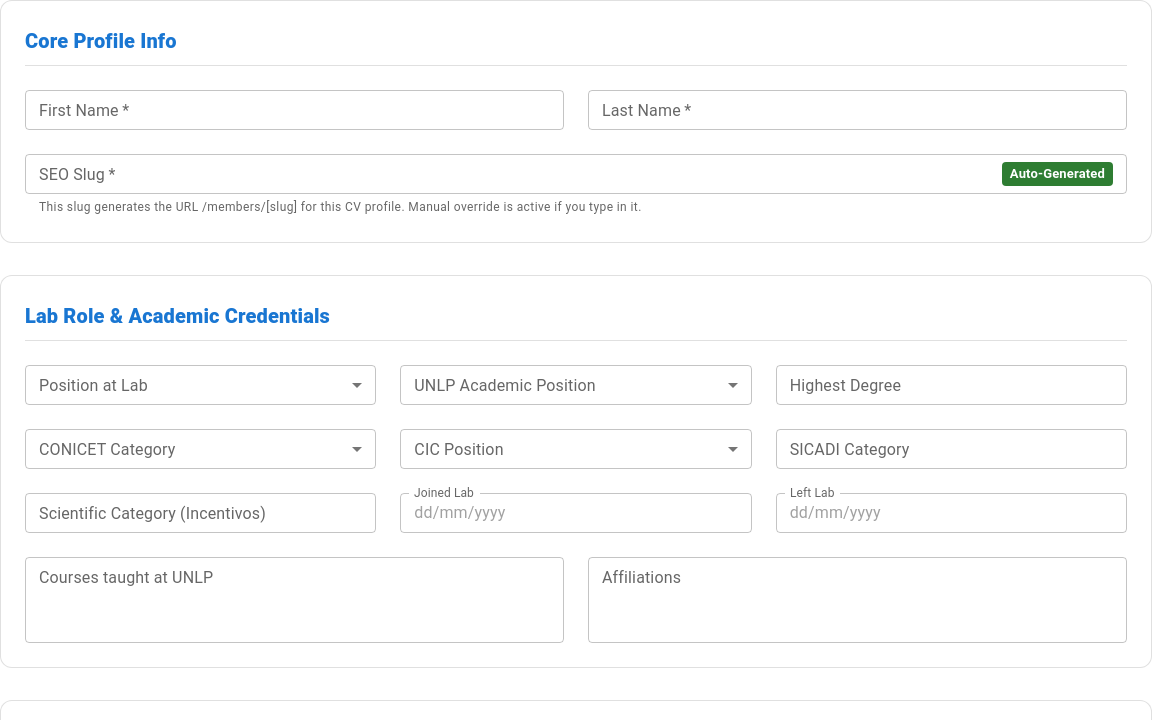
Scenario: MemberForm Component › stops auto-generating slug if user manually overrides it, and resets when Reset Auto is clicked
The width and height of the screenshot is (1152, 720).
In the field labelled "First Name *": coordinates (294, 110) [25,90,564,130], type "Juan"
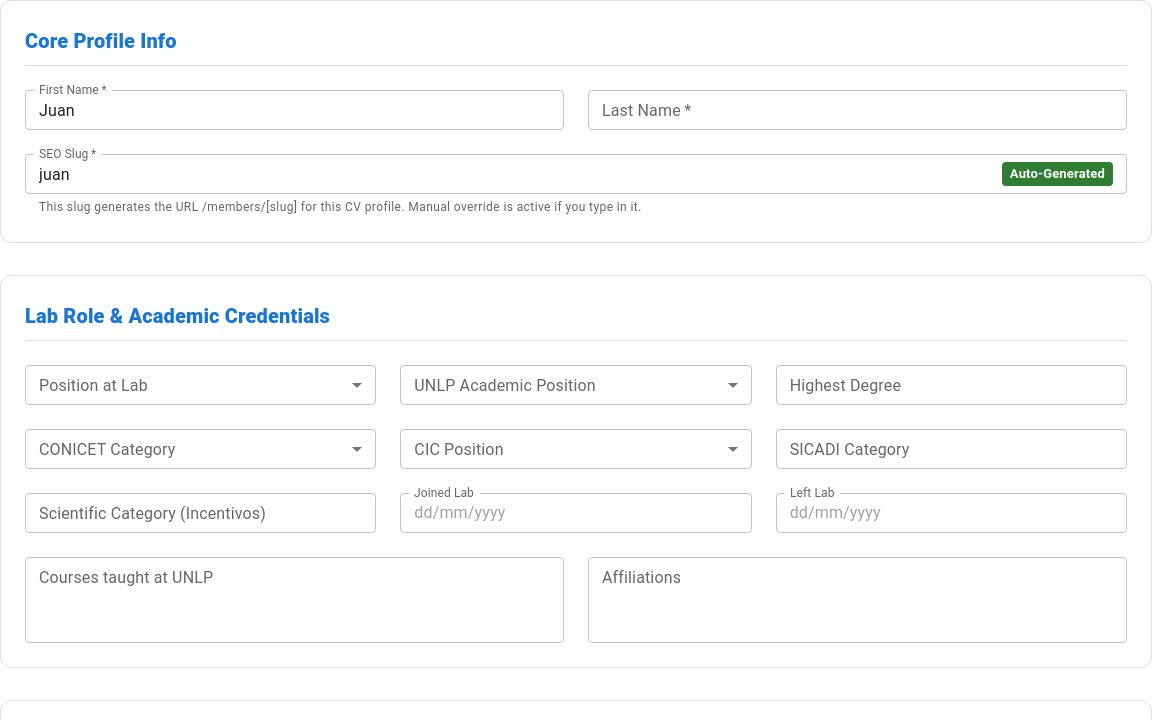
In the field labelled "Last Name *": coordinates (858, 110) [588,90,1127,130], type "Perez"
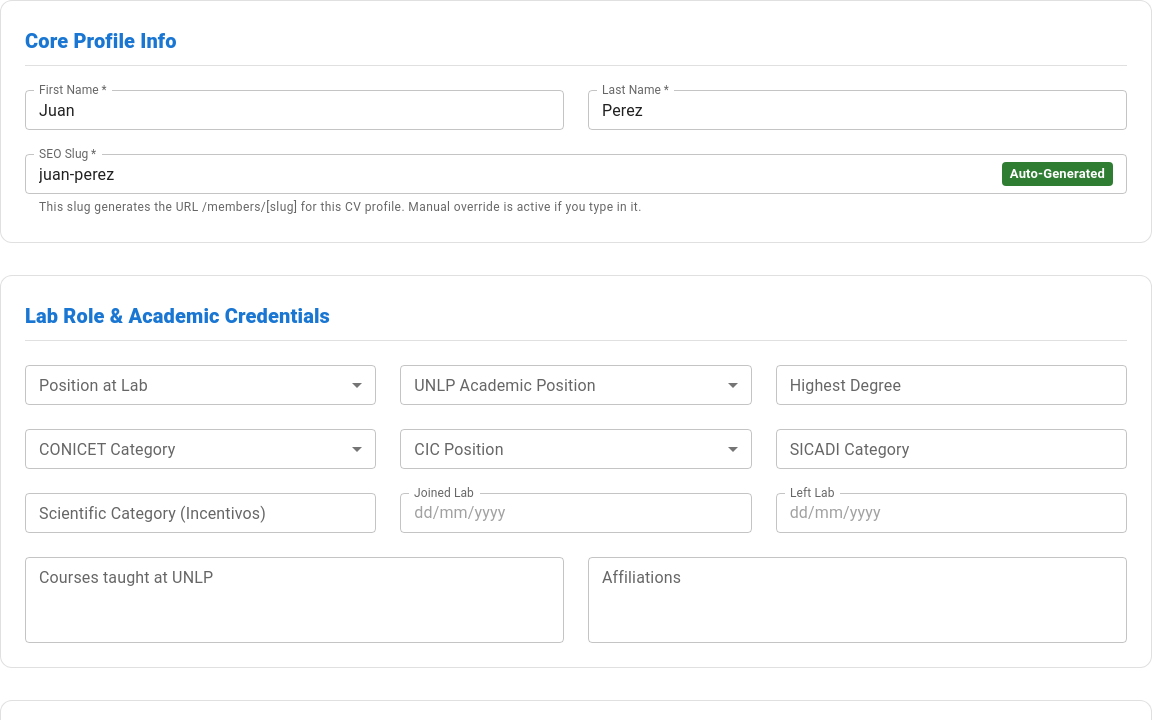
Expected: the field labelled "SEO Slug *" holds "juan-perez"
// Manually override the slug
Replace the text in the field labelled "SEO Slug *" with "custom-slug-value": coordinates (509, 174) [25,154,994,194]
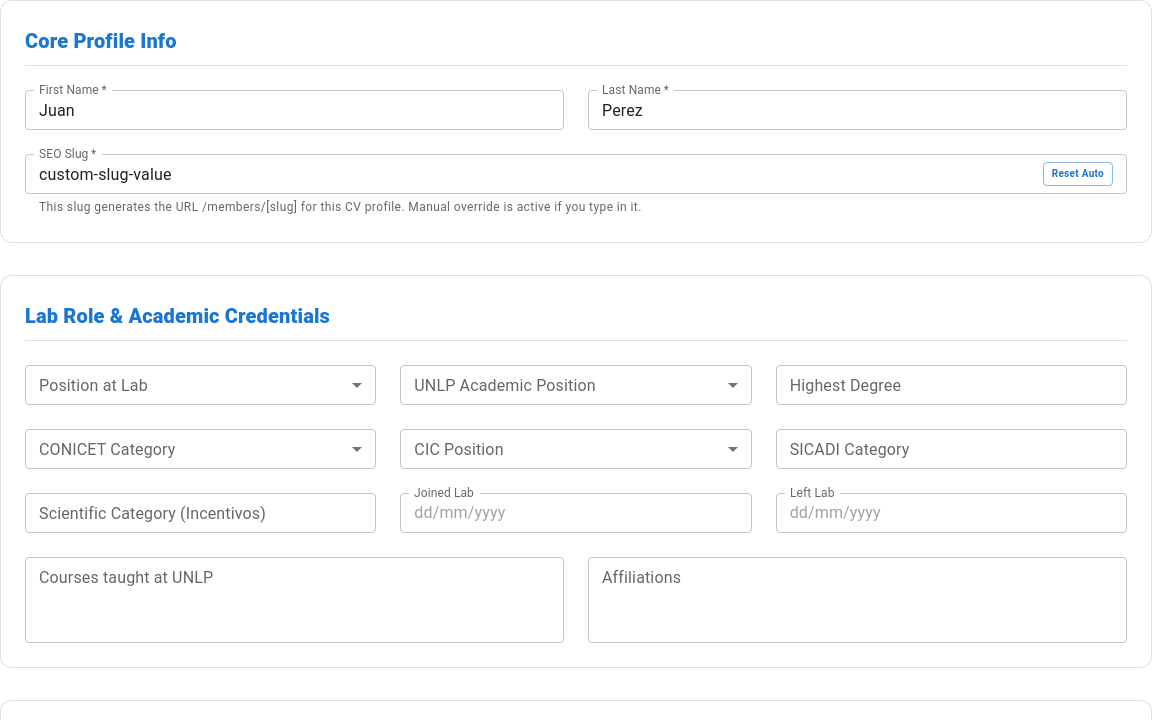
Expected: the button "Reset Auto" is shown, [1043,162,1113,186]
// Change first name and ensure slug does NOT auto-update anymore
Replace the text in the field labelled "First Name *" with "Mario": coordinates (294, 110) [25,90,564,130]
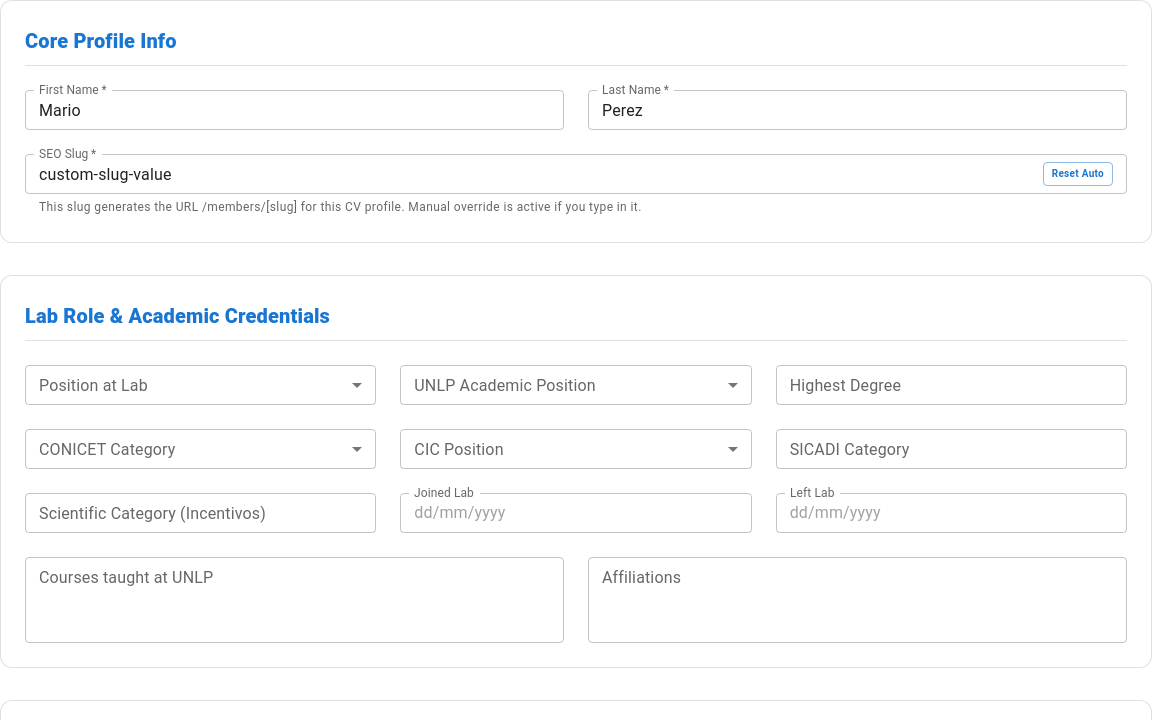
// Click reset auto and verify it generates Mario Perez
Click the button "Reset Auto": coordinates (1078, 174) [1043,162,1113,186]
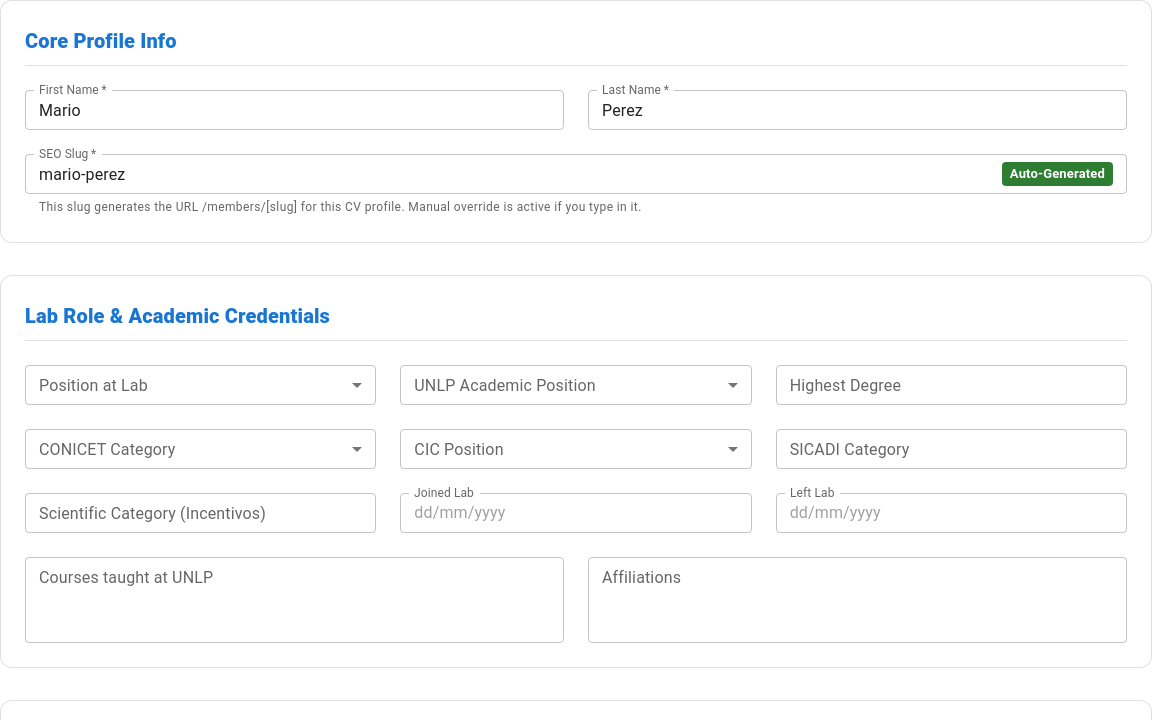
Expected: the field labelled "SEO Slug *" holds "mario-perez", [25,154,994,194]
